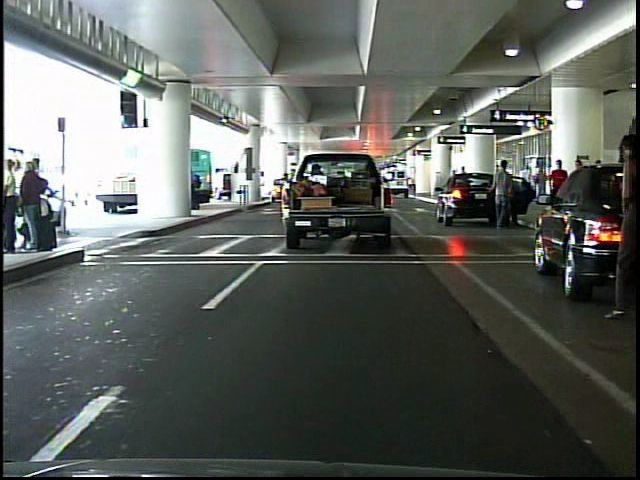person: (485, 156, 521, 236), (548, 156, 567, 182)
